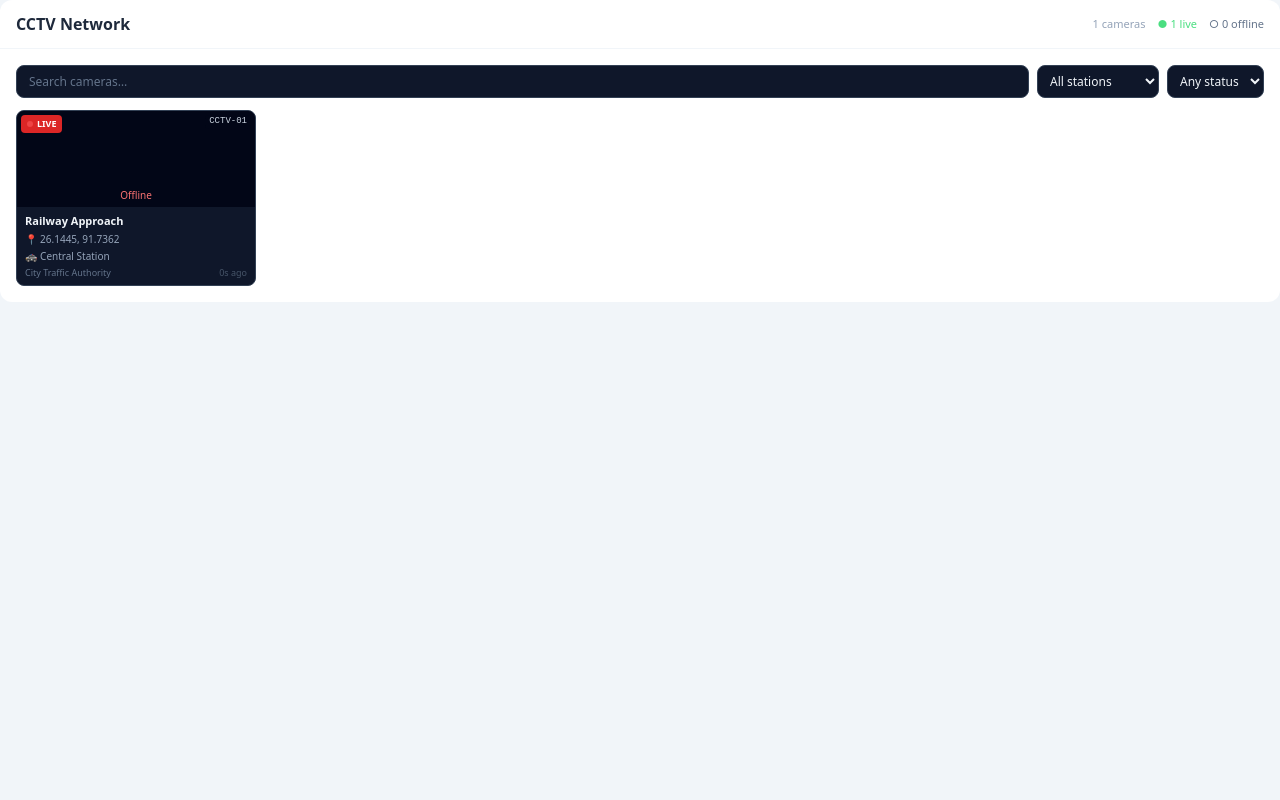
Test: CctvNetworkPanel › credits the feed source in the expanded view
Click the text "Railway Approach" at (74, 220), box [25,213,123,228]
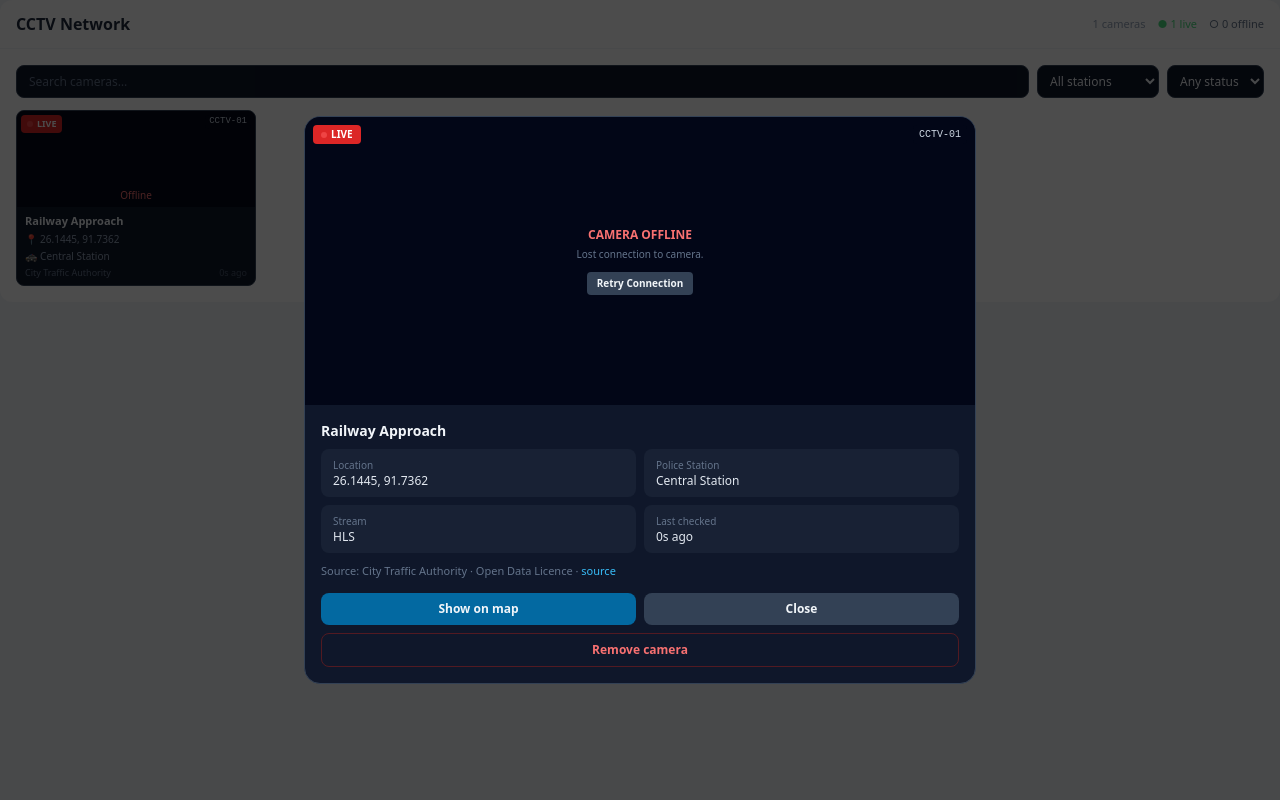
Check: the text "Source: City Traffic Authority · Open Data Licence · source" is shown, box [321,563,616,578]
